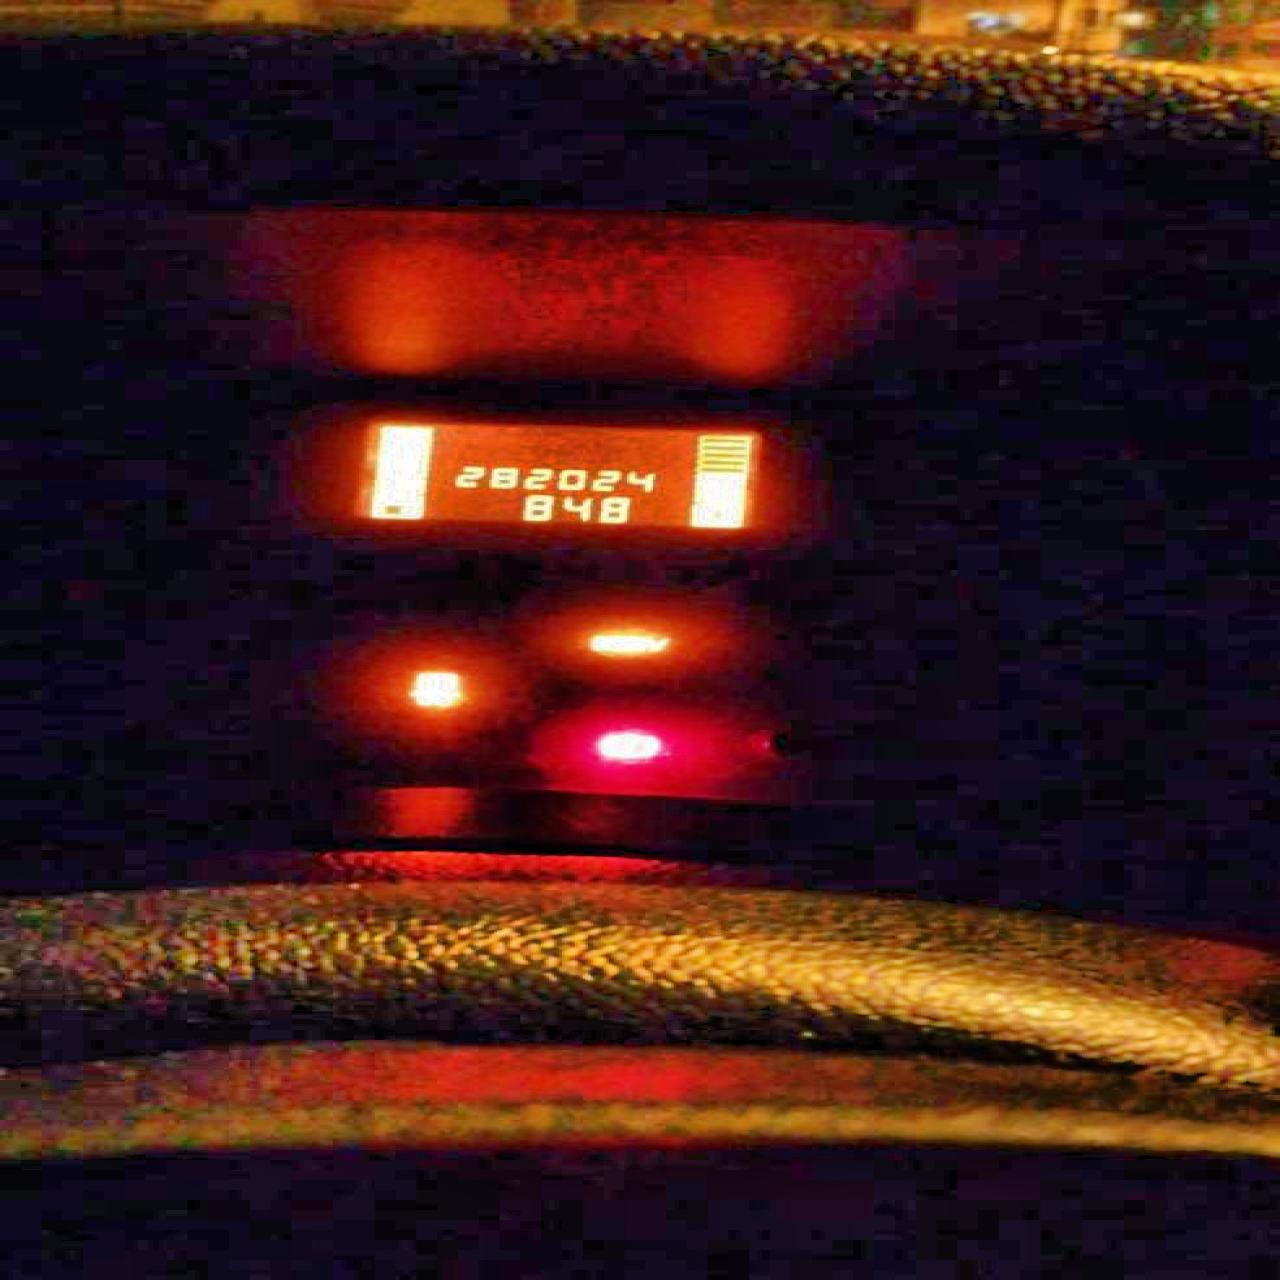0: (551, 468, 586, 490)
2: (450, 463, 486, 488), (588, 468, 619, 491), (520, 467, 551, 490)
4: (557, 495, 591, 520), (621, 468, 655, 492)
8: (518, 492, 554, 522), (593, 496, 629, 523), (486, 467, 517, 489)
odometer: (339, 414, 772, 535)
